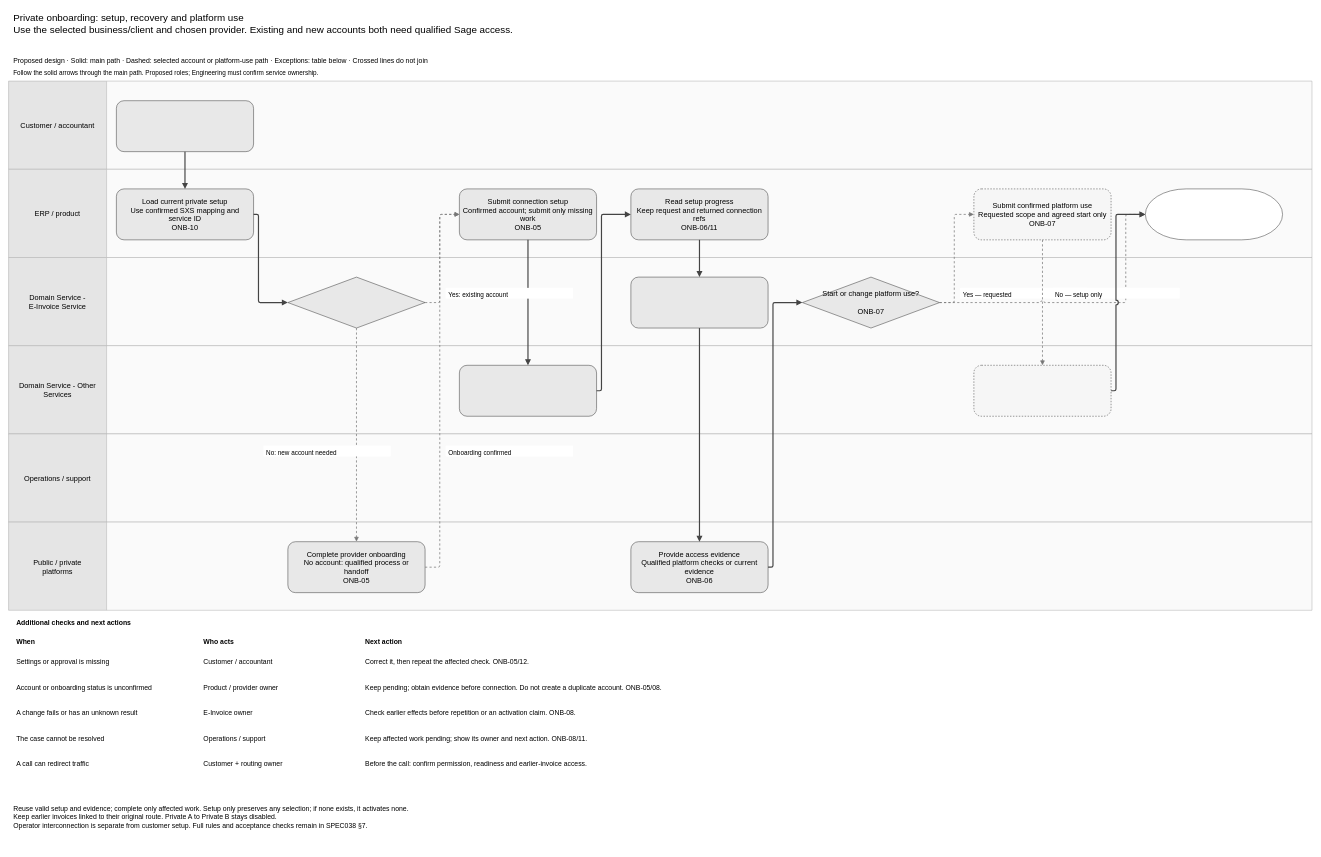
This 1321x857 diagram has some shape labels left out. Here are the shapes that lost their labels. From the top down, the box of each, then its label:
(116, 100, 254, 152): Choose the private platform For selected business or accountant client ONB-01
(1145, 188, 1283, 240): Show result and next action Separate readiness from activation ONB-11
(287, 277, 425, 328): Account on chosen platform? ONB-05/10
(630, 277, 768, 328): Confirm private access Assess required evidence for each function ONB-06
(459, 365, 597, 416): Set up or reuse Sage connection Keep valid setup; add only missing work ONB-05
(973, 365, 1111, 416): Start or change platform use Enabled, authorised; keep earlier access ONB-07/09
